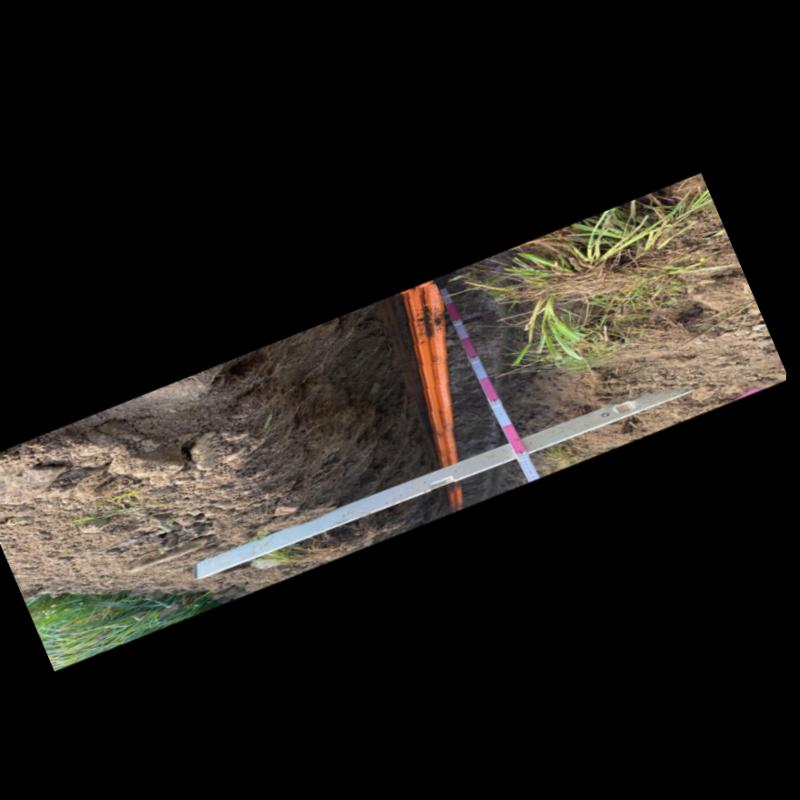Orang-Speednetrohrchen: (409, 277, 463, 458)
